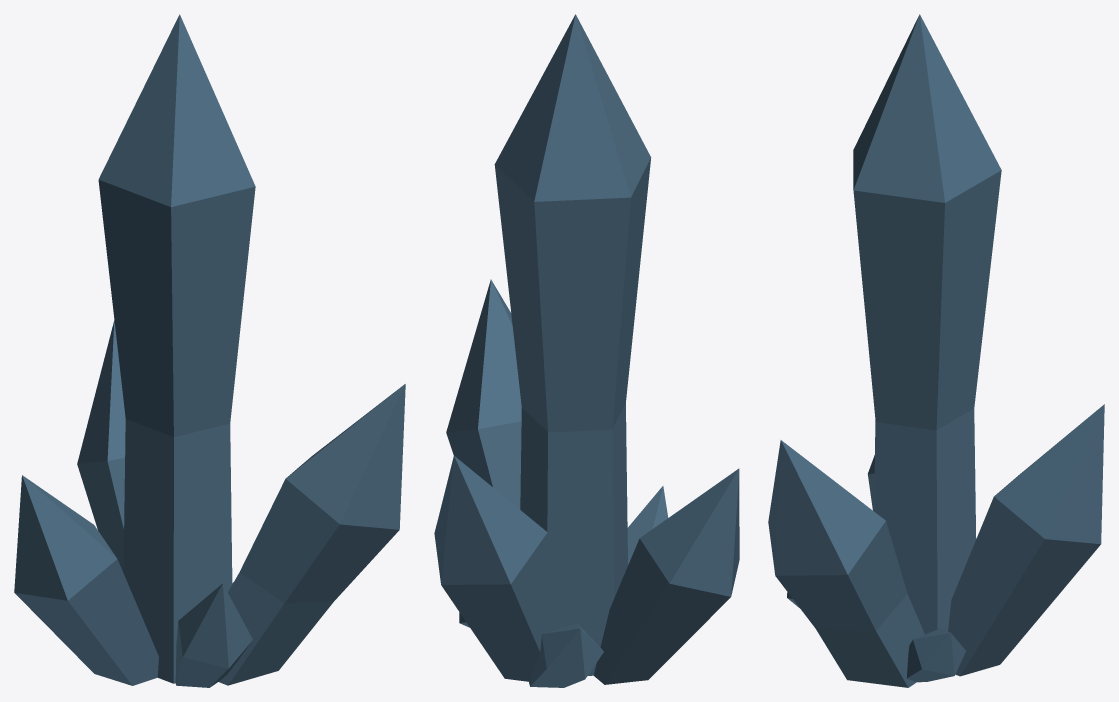
The model's file is Crystals.fbx.
3 views of the same model, side by side, from view 1: azimuth 30°, elevation 25°; view 2: azimuth 150°, elevation 25°; view 3: azimuth 270°, elevation 25° (orthographic).
Visible parts, largest first — view 1: Crystals; view 2: Crystals; view 3: Crystals.
Boxes of the visible parts, x1=… form: Crystals: x1=14, y1=14, x2=405, y2=687; Crystals: x1=434, y1=14, x2=739, y2=687; Crystals: x1=768, y1=14, x2=1104, y2=687.
Size of the model in its own units: 157 by 295 by 141.
